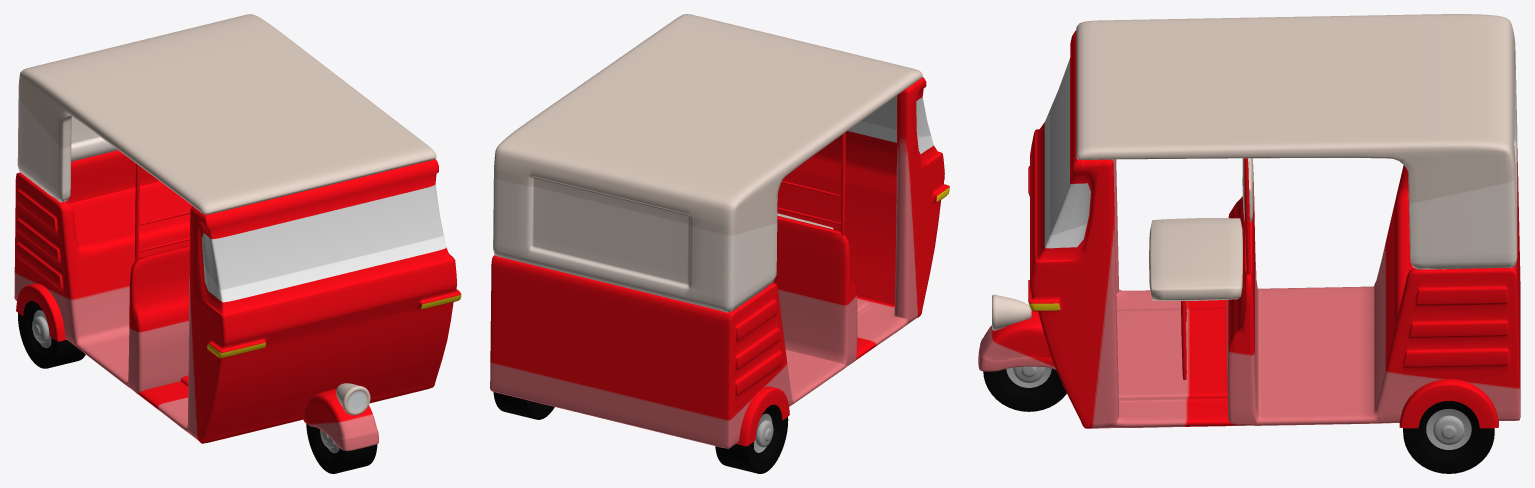
Rendered from rickshaw@idle.fbx.
3 renders of one model, left to right at view 1: azimuth 30°, elevation 25°; view 2: azimuth 150°, elevation 25°; view 3: azimuth 270°, elevation 25°, orthographic. The views are drawn at different scales.
Parts seen in each view (by area): view 1: rickshaw:polySurface19, rickshaw:polySurface20; view 2: rickshaw:polySurface19, rickshaw:polySurface20; view 3: rickshaw:polySurface19, rickshaw:polySurface20.
Part boxes in pixels (x1,y1,x2,y2): rickshaw:polySurface19: (14,14,461,443); rickshaw:polySurface20: (16,283,378,473); rickshaw:polySurface19: (490,14,949,448); rickshaw:polySurface20: (493,386,789,473); rickshaw:polySurface19: (1028,14,1520,428); rickshaw:polySurface20: (978,294,1498,473).
Size of the model in its own units: 6.21 by 6.62 by 9.99.
